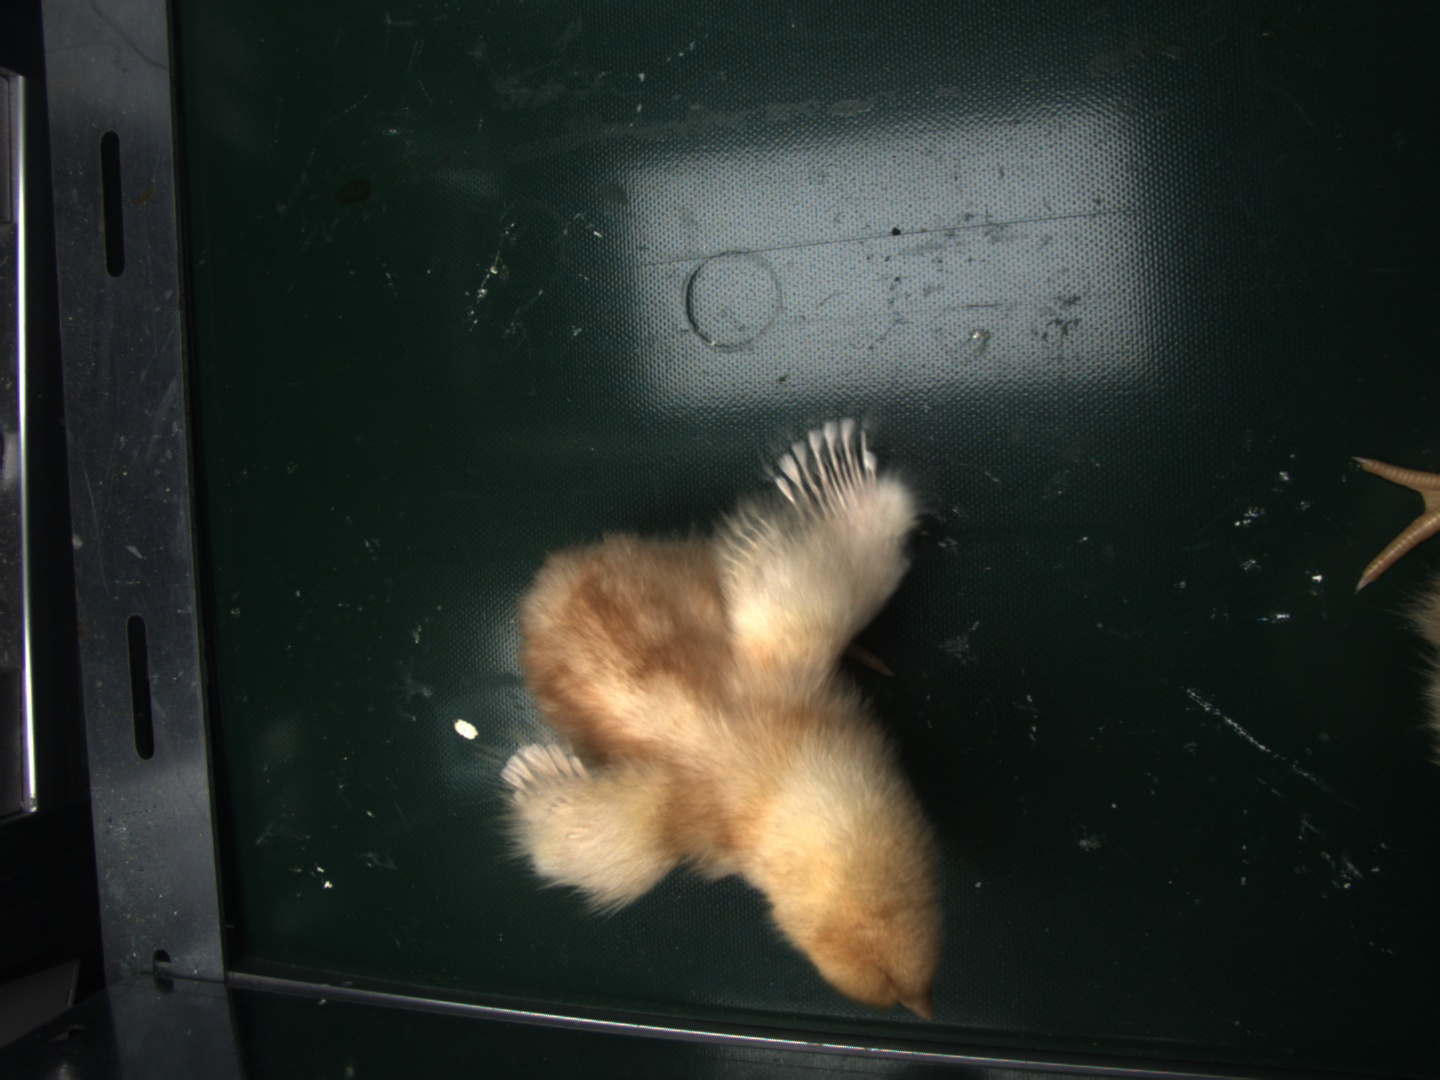female: (774, 419, 876, 513)
